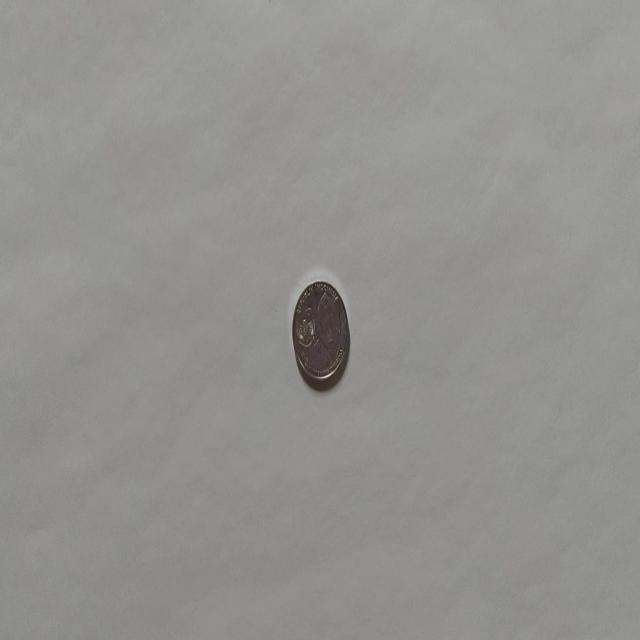dua ratus rupiah: (290, 278, 350, 388)
